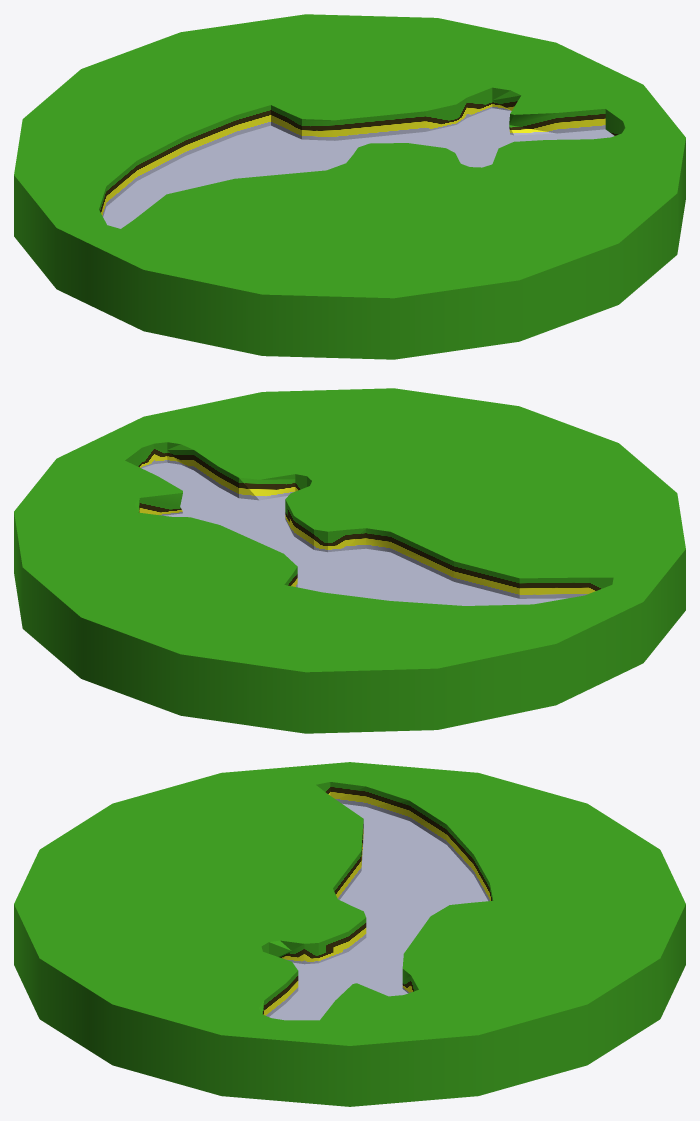
File: TokenGreen.fbx
3 renders of one model, top to bottom at view 1: azimuth 30°, elevation 25°; view 2: azimuth 150°, elevation 25°; view 3: azimuth 270°, elevation 25°, orthographic.
Parts seen in each view (by area): view 1: polySurface2; view 2: polySurface2; view 3: polySurface2.
Boxes of the visible parts, x1,y1,x2,y2 form: polySurface2: [14, 14, 685, 359]; polySurface2: [14, 388, 685, 733]; polySurface2: [14, 762, 685, 1106].
Bounding box in the file's own units: 120 × 12 × 120.
Materials: 1 (1 with a texture image).
